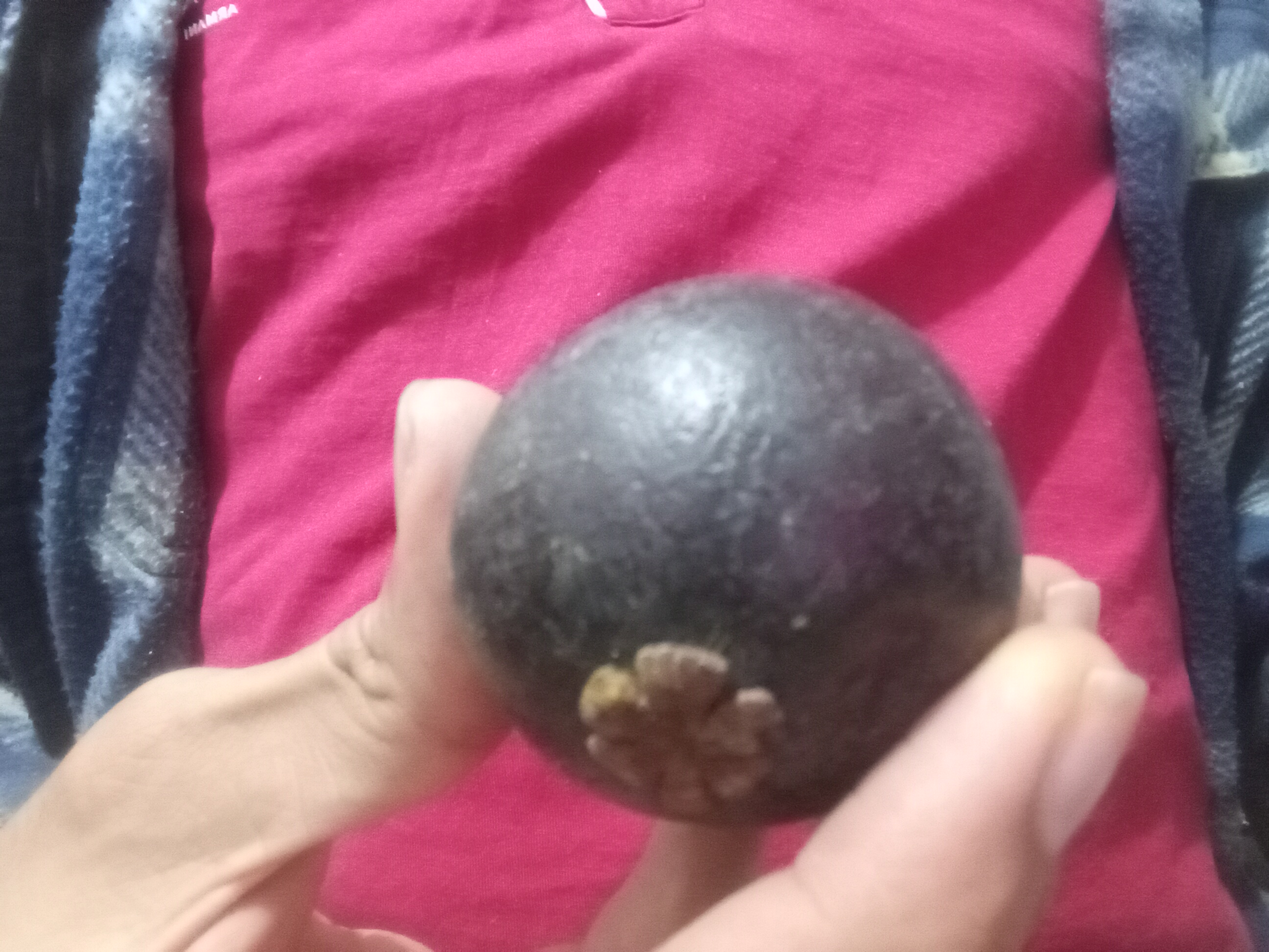Organico: (453, 279, 1023, 829)
